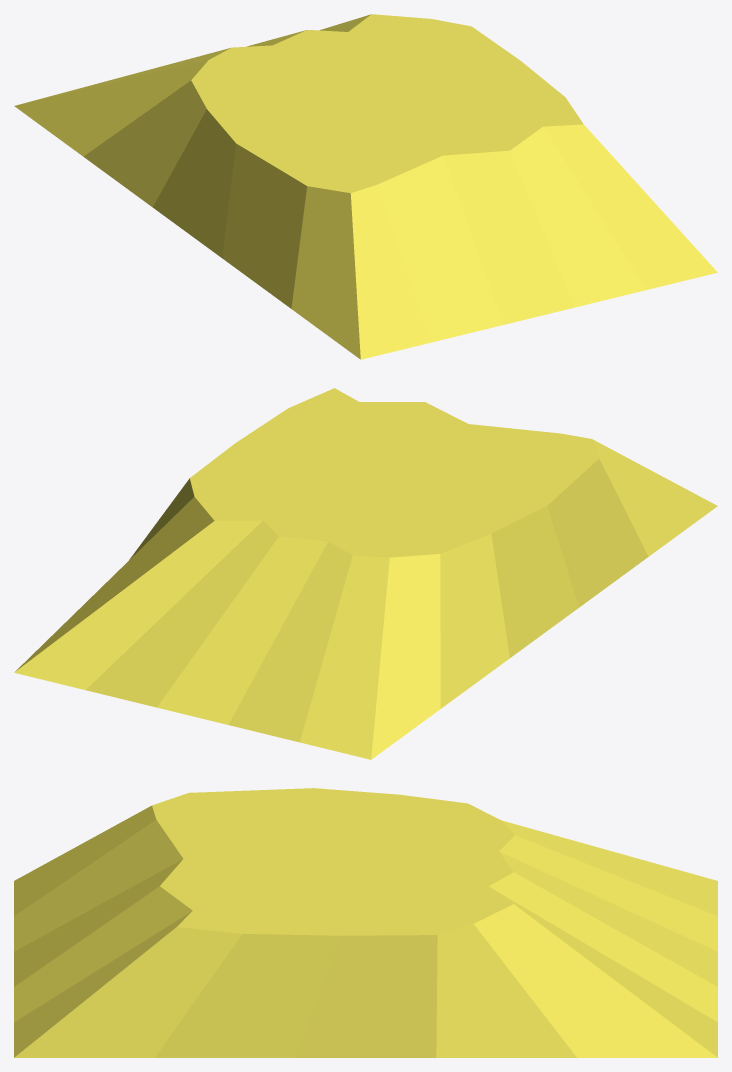
File: IslandHub.glb
3 views of the same model, one above another, from view 1: azimuth 30°, elevation 25°; view 2: azimuth 150°, elevation 25°; view 3: azimuth 270°, elevation 25° (orthographic).
Parts seen in each view (by area): view 1: island; view 2: island; view 3: island.
Boxes of the visible parts, x1,y1,x2,y2 form: island: (14,14,717,359); island: (14,388,717,759); island: (14,788,717,1057).
Size of what is drawn, in the model's own units: 72.8 by 20 by 122.
Materials: 1 (1 with a texture image).
